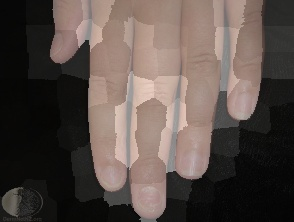Nail_psoriasis: (132, 182, 169, 218)
